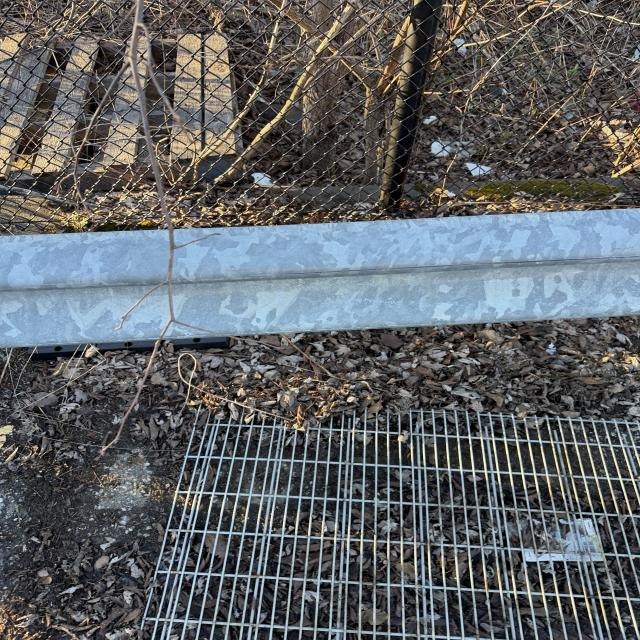Guard rail: (23, 218, 633, 337)
